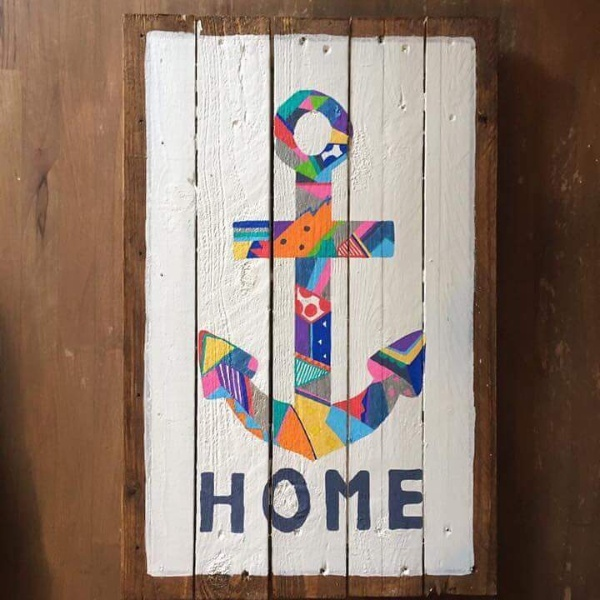text: (209, 466, 224, 535), (225, 466, 240, 535), (241, 466, 256, 535), (257, 466, 272, 535), (273, 466, 288, 535), (289, 466, 304, 535), (305, 466, 320, 535), (321, 466, 336, 535), (337, 466, 352, 535), (353, 466, 368, 535), (369, 466, 384, 535), (385, 466, 400, 535), (401, 466, 416, 535), (199, 466, 208, 535), (417, 466, 425, 535)
